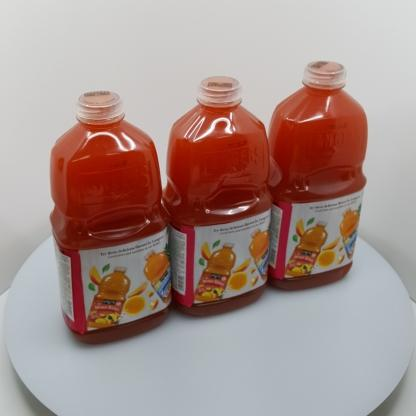-----------1-89L: (49, 91, 172, 344), (161, 76, 273, 316), (259, 60, 368, 290)
